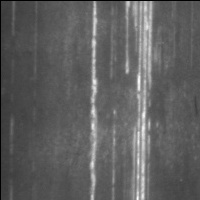scratches: (121, 1, 155, 200), (85, 1, 102, 200)
